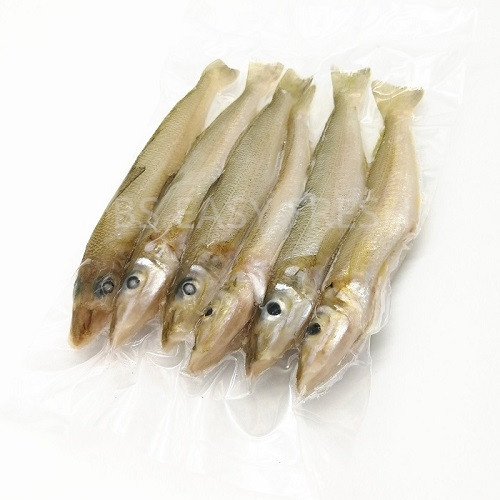kiss: (61, 56, 435, 401)
